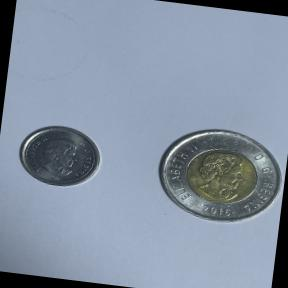coin: (137, 114, 288, 241), (9, 116, 110, 198)
